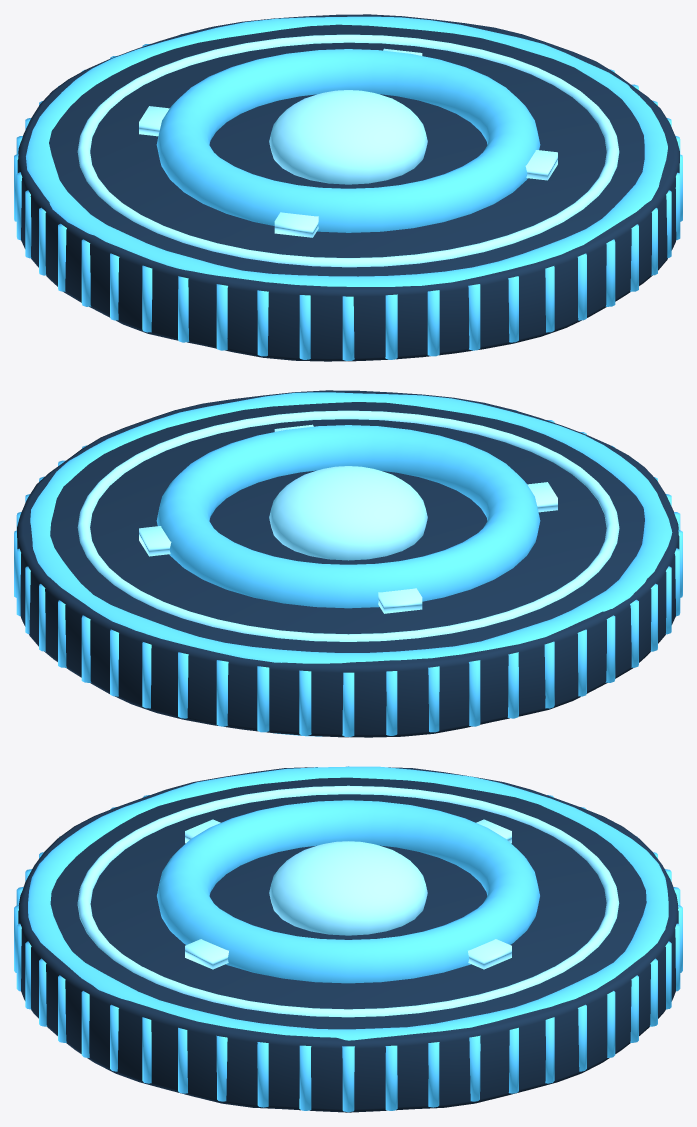
Rendered from token-lodestone.glb.
3 views of the same model, one above another, from view 1: azimuth 30°, elevation 25°; view 2: azimuth 150°, elevation 25°; view 3: azimuth 270°, elevation 25° (orthographic).
Visible parts, largest first — view 1: TokenBody, Torus.004, TopRim, TopRim_Inner, Sphere, Cube.002, EdgeReed_34, EdgeReed_33, EdgeReed_35, EdgeReed_32, EdgeReed_29, Cube.003 (+13 smaller); view 2: TokenBody, Torus.004, TopRim, TopRim_Inner, Sphere, Cube.001, EdgeReed_14, EdgeReed_15, EdgeReed_13, EdgeReed_16, EdgeReed_19, Cube (+13 smaller); view 3: TokenBody, Torus.004, TopRim, TopRim_Inner, Sphere, Cube, Cube.003, EdgeReed_0, EdgeReed_1, EdgeReed_47, EdgeReed_2, EdgeReed_46 (+13 smaller).
Boxes of the visible parts, x1,y1,x2,y2 form: TokenBody: [17, 14, 679, 361]; Torus.004: [156, 49, 540, 232]; TopRim: [26, 16, 667, 286]; TopRim_Inner: [77, 34, 619, 267]; Sphere: [269, 90, 427, 184]; Cube.002: [274, 212, 318, 237]; EdgeReed_34: [427, 290, 439, 356]; EdgeReed_33: [385, 294, 397, 359]; EdgeReed_35: [468, 284, 480, 350]; EdgeReed_32: [342, 296, 354, 360]; EdgeReed_29: [216, 284, 227, 350]; Cube.003: [525, 150, 557, 180]; TokenBody: [17, 390, 679, 737]; Torus.004: [156, 425, 540, 608]; TopRim: [30, 392, 672, 663]; TopRim_Inner: [77, 410, 619, 641]; Sphere: [269, 466, 427, 560]; Cube.001: [378, 588, 422, 613]; EdgeReed_14: [257, 666, 269, 732]; EdgeReed_15: [299, 670, 311, 735]; EdgeReed_13: [216, 660, 228, 726]; EdgeReed_16: [342, 672, 354, 737]; EdgeReed_19: [469, 660, 480, 726]; Cube: [139, 526, 171, 556]; TokenBody: [18, 767, 678, 1112]; Torus.004: [157, 800, 539, 983]; TopRim: [28, 766, 668, 1040]; TopRim_Inner: [77, 785, 619, 1017]; Sphere: [269, 841, 427, 935]; Cube: [468, 939, 511, 969]; Cube.003: [185, 939, 228, 969]; EdgeReed_0: [342, 1046, 354, 1112]; EdgeReed_1: [385, 1045, 397, 1110]; EdgeReed_47: [299, 1045, 311, 1110]; EdgeReed_2: [428, 1042, 439, 1107]; EdgeReed_46: [257, 1042, 268, 1107].
Size of the model in its own units: 2.02 by 0.5736 by 2.02.
